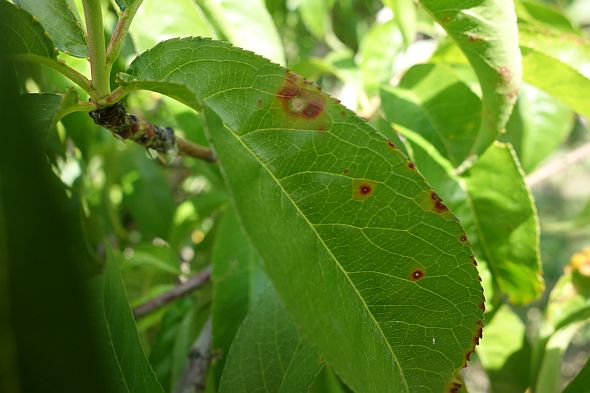healthy: (116, 35, 508, 369)
